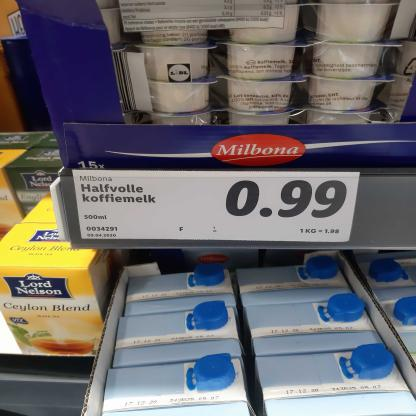prtg: (73, 171, 361, 243)
